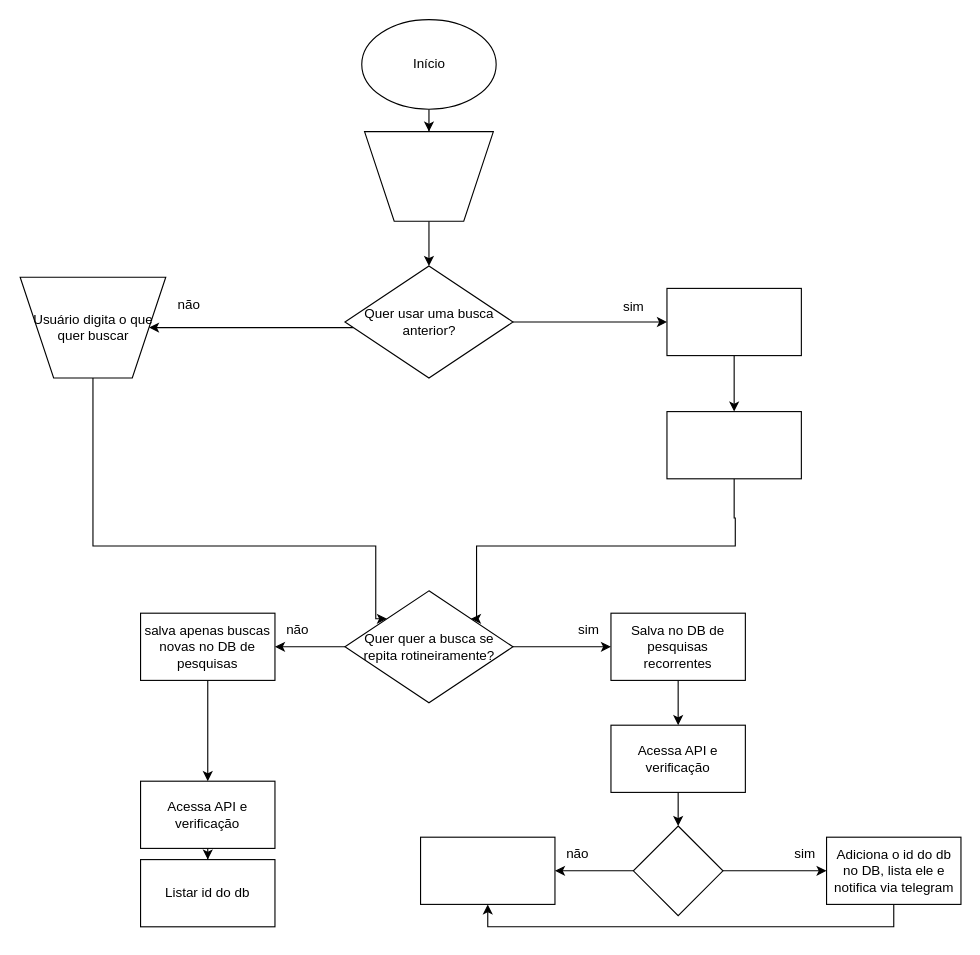
Some shapes in this 980 by 955 pixel diagram are drawn without their labels. The shapes that lost their labels are listed below. From the top down, each one's centre as x and y in pixels, then its label:
the point at 428,175: Usuário acessa o container
the point at 733,321: Lista as opções salvas no DB de pesquisas
the point at 733,444: Usuário escolhe
the point at 487,870: Aguarda 24hrs
the point at 677,870: Tem dados novos?
